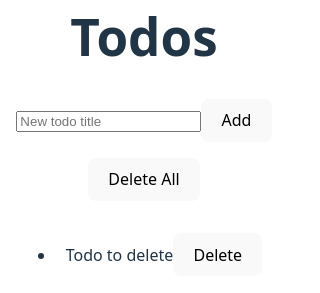
App › deletes a todo when delete button is clicked
Expected: the text "Todo to delete" is shown, [66,244,173,266]
What coordinates should you click on to do the following:
click the button with test id "delete-1"
I would click on:
 (218, 255)
Its box is [173,233,262,276].
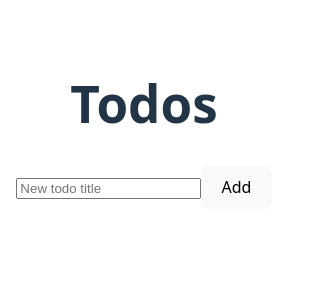
Expected: the text "Todo to delete" is gone
